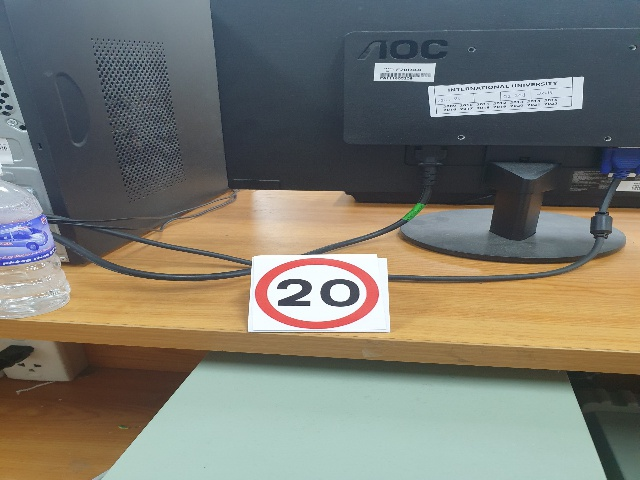Limit 20: (254, 258, 380, 328)
